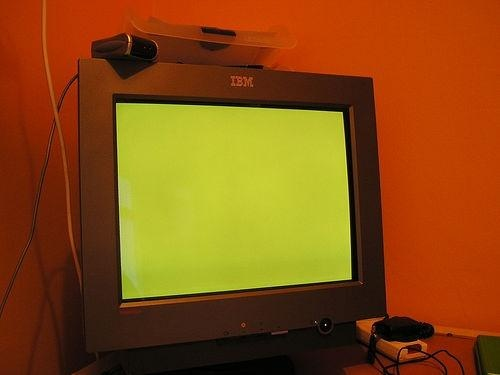tvmonitor: (73, 54, 392, 355)
